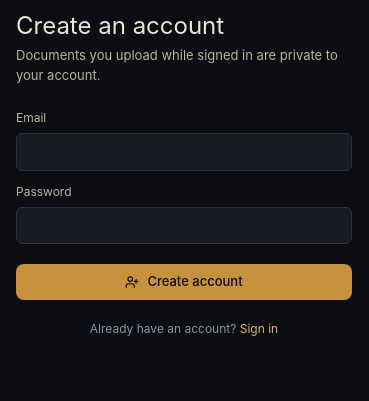
it: RegisterPage › falls back to a generic message when the thrown error isn't an ApiError
Type "alice@example.com" into the field labelled "Email" at {"x": 184, "y": 152}, box [16,133,352,170]
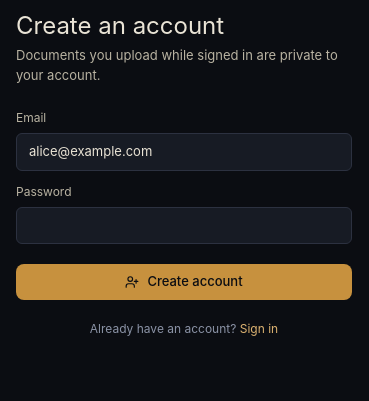
Type "hunter2pass" into the password field labelled "Password" at {"x": 184, "y": 225}, box [16,206,352,244]
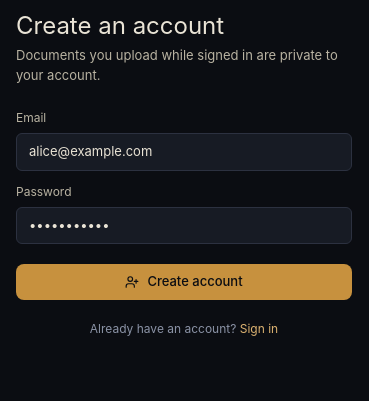
Click the button "Create account" at {"x": 184, "y": 282}, box [16,264,352,300]
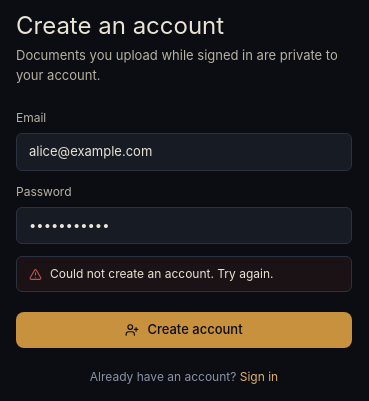
Expected: the text "Could not create an account. Try again." is shown, [16,256,352,292]
